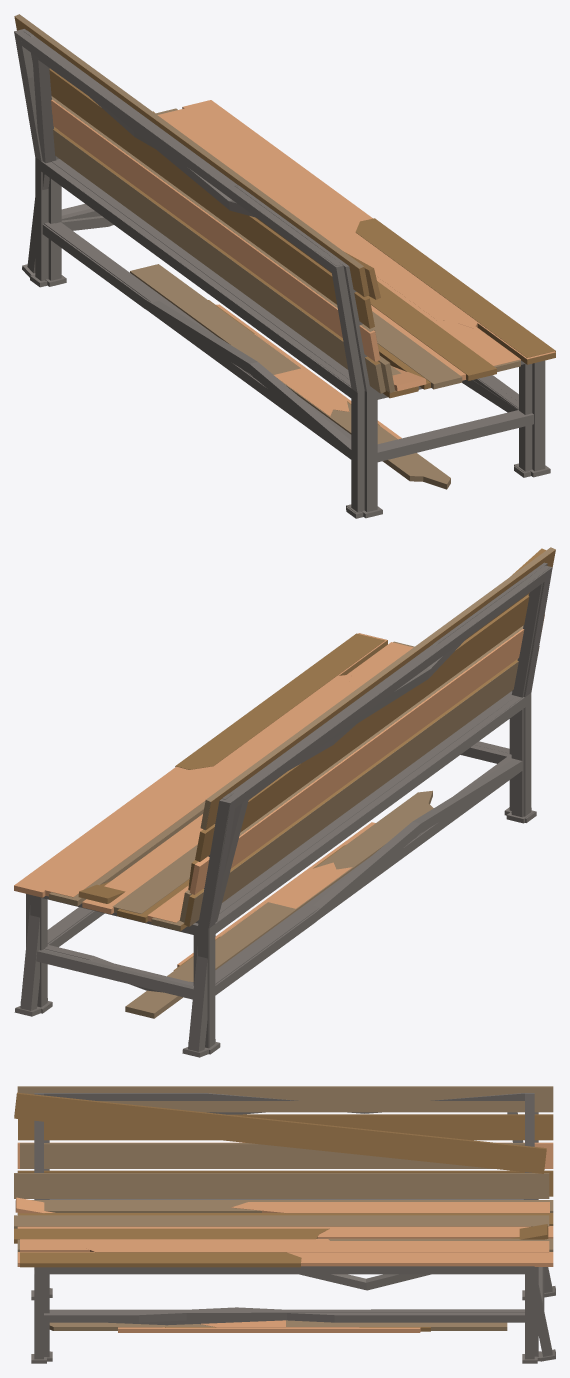
Rendered from Bench.fbx.
The picture shows the model from 3 angles, top to bottom: view 1: azimuth 30°, elevation 25°; view 2: azimuth 150°, elevation 25°; view 3: azimuth 270°, elevation 25°; orthographic projection. The views are drawn at different scales.
Parts seen in each view (by area): view 1: bench2, bench4, bench3, bench1, board2, board3, board4; view 2: bench2, bench3, bench1, bench4, board2, board3, board4; view 3: bench4, bench3, bench1, board2, board4, board3, bench2.
Part boxes in pixels (x1=…): bench2: x1=14, y1=16, x2=555, y2=518; bench4: x1=23, y1=30, x2=550, y2=518; bench3: x1=14, y1=14, x2=555, y2=514; bench1: x1=22, y1=54, x2=555, y2=512; board2: x1=130, y1=264, x2=450, y2=489; board3: x1=254, y1=333, x2=349, y2=416; board4: x1=216, y1=304, x2=401, y2=439; bench2: x1=41, y1=547, x2=555, y2=1054; bench3: x1=14, y1=547, x2=555, y2=1054; bench1: x1=14, y1=566, x2=549, y2=1057; bench4: x1=20, y1=548, x2=547, y2=1043; board2: x1=125, y1=790, x2=433, y2=1018; board3: x1=220, y1=862, x2=352, y2=936; board4: x1=177, y1=822, x2=375, y2=967; bench4: x1=14, y1=1092, x2=549, y2=1363; bench3: x1=18, y1=1086, x2=553, y2=1361; bench1: x1=20, y1=1112, x2=555, y2=1361; board2: x1=49, y1=1320, x2=507, y2=1330; board4: x1=118, y1=1327, x2=420, y2=1332; board3: x1=200, y1=1320, x2=359, y2=1327; bench2: x1=17, y1=1086, x2=282, y2=1325.
Bounding box in the file's own units: 116 × 138 × 335.
